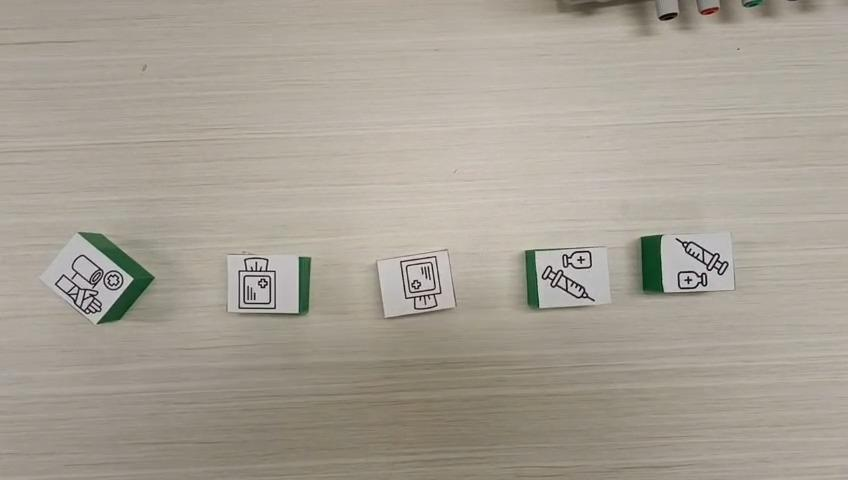Bandages: (35, 231, 154, 325)
Gauze: (375, 247, 457, 318), (226, 254, 312, 315)
antiseptic cream: (638, 229, 737, 293), (522, 244, 612, 309)
